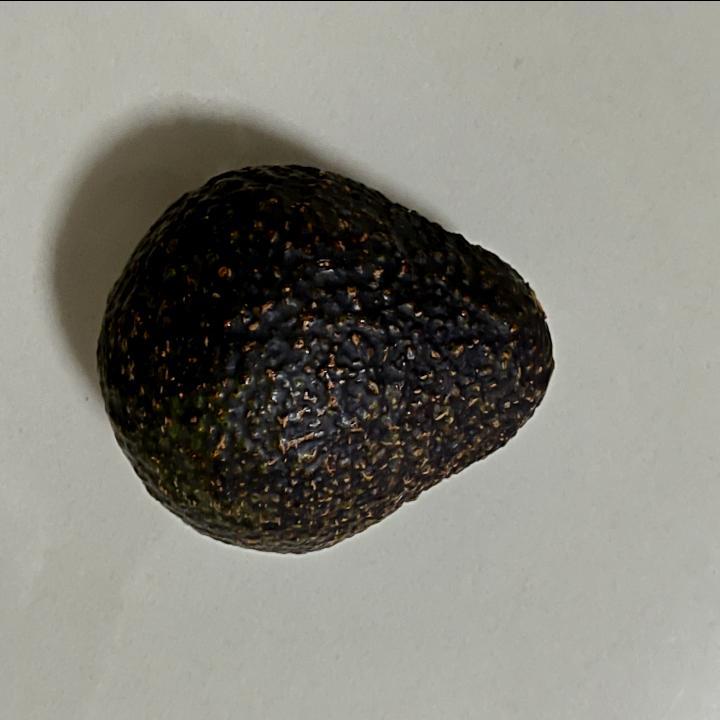Level1: (88, 143, 568, 573)
